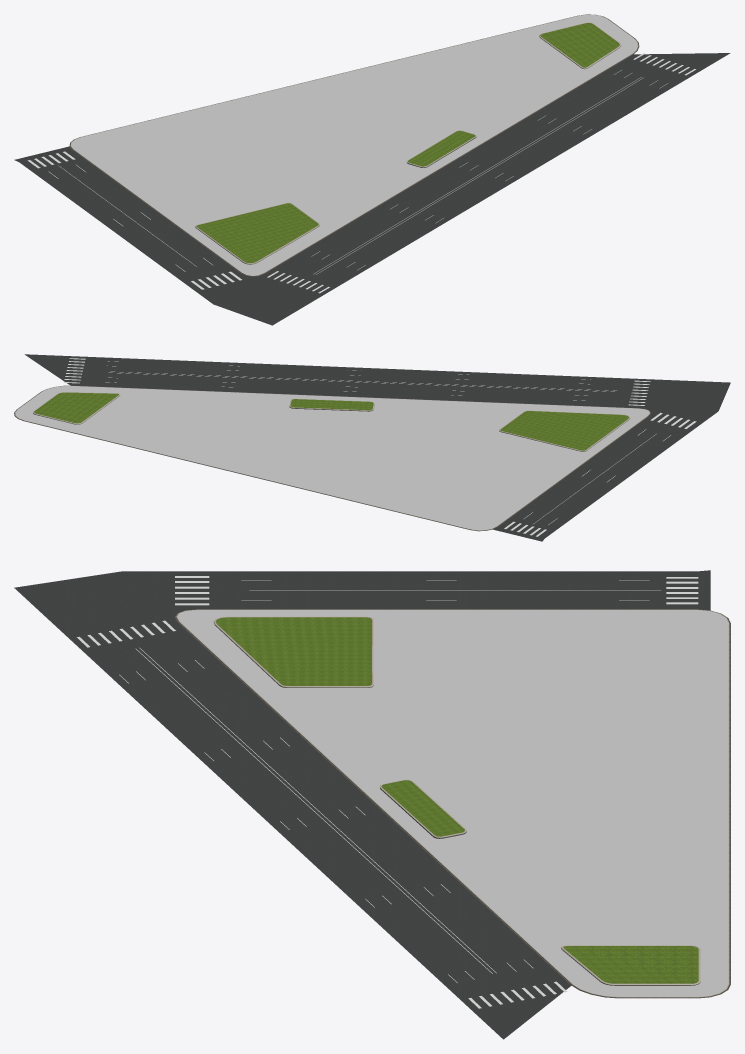
Rendered from New_Terrain_Area_30.fbx.
The picture shows the model from 3 angles, top to bottom: view 1: azimuth 30°, elevation 25°; view 2: azimuth 150°, elevation 25°; view 3: azimuth 270°, elevation 25°; orthographic projection. The views are drawn at different scales.
Parts seen in each view (by area): view 1: Area_30, Road_28, Road_Alpha_67, Road_Alpha_66; view 2: Area_30, Road_28, Road_Alpha_67, Road_Alpha_66; view 3: Area_30, Road_28, Road_Alpha_67, Road_Alpha_66.
Part boxes in pixels (x1,y1,x2,y2): Area_30: [69, 14, 639, 276]; Road_28: [14, 53, 730, 325]; Road_Alpha_67: [267, 53, 695, 293]; Road_Alpha_66: [27, 151, 241, 289]; Area_30: [14, 385, 650, 531]; Road_28: [24, 354, 730, 541]; Road_Alpha_67: [64, 358, 650, 405]; Road_Alpha_66: [504, 412, 696, 536]; Area_30: [174, 609, 730, 998]; Road_28: [14, 570, 710, 1039]; Road_Alpha_67: [77, 620, 567, 1008]; Road_Alpha_66: [175, 576, 698, 605].
Size of the model in its own units: 16894 by 31.39 by 10905.
